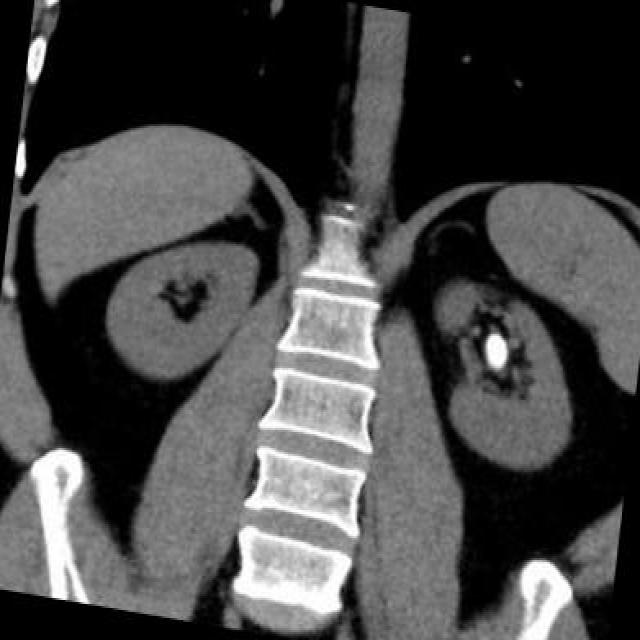Tas_Var: (479, 328, 511, 378)
